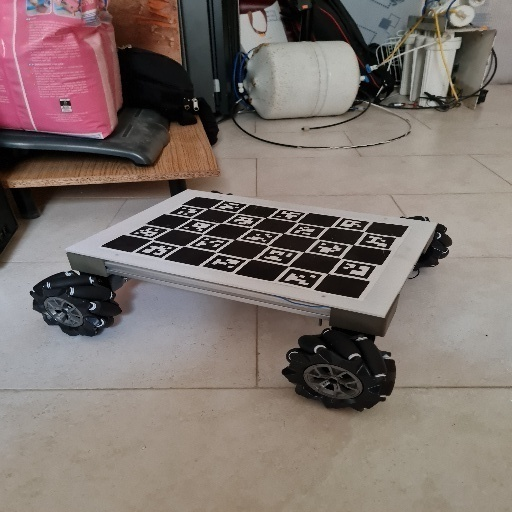Omniwheel: (30, 188, 454, 417)
